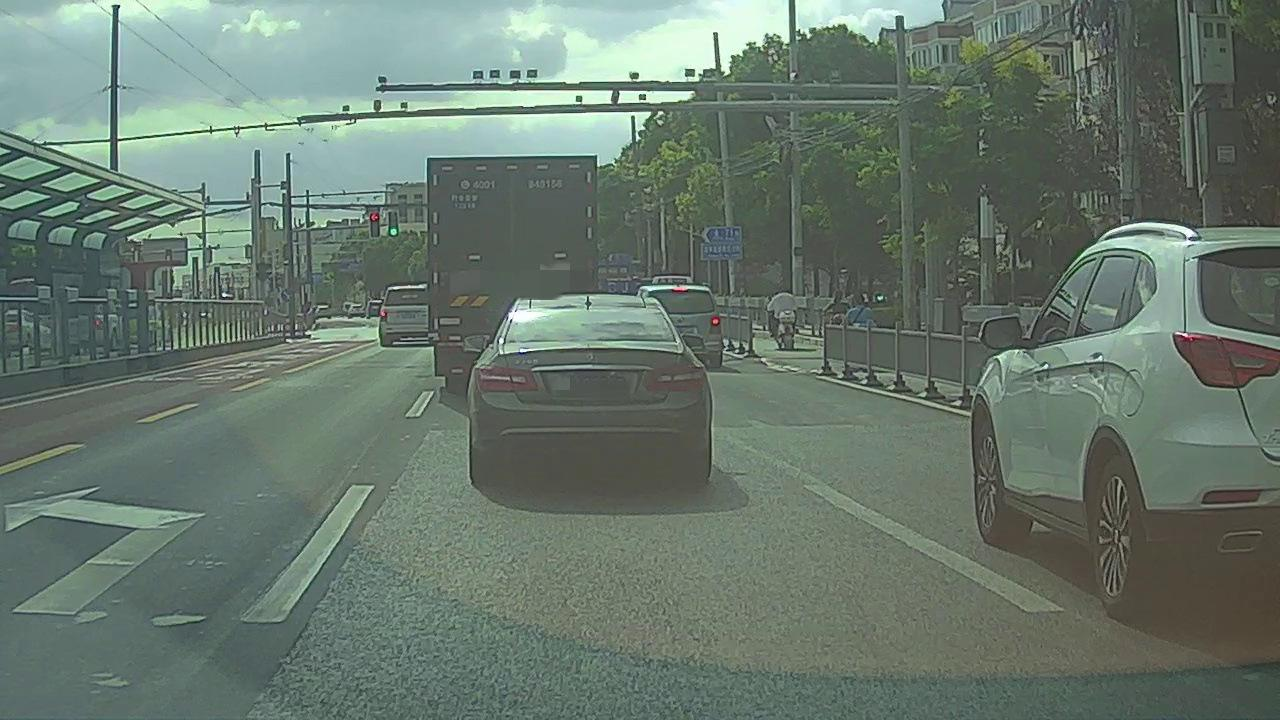traffic_light: (388, 212, 399, 237), (370, 212, 379, 238)
